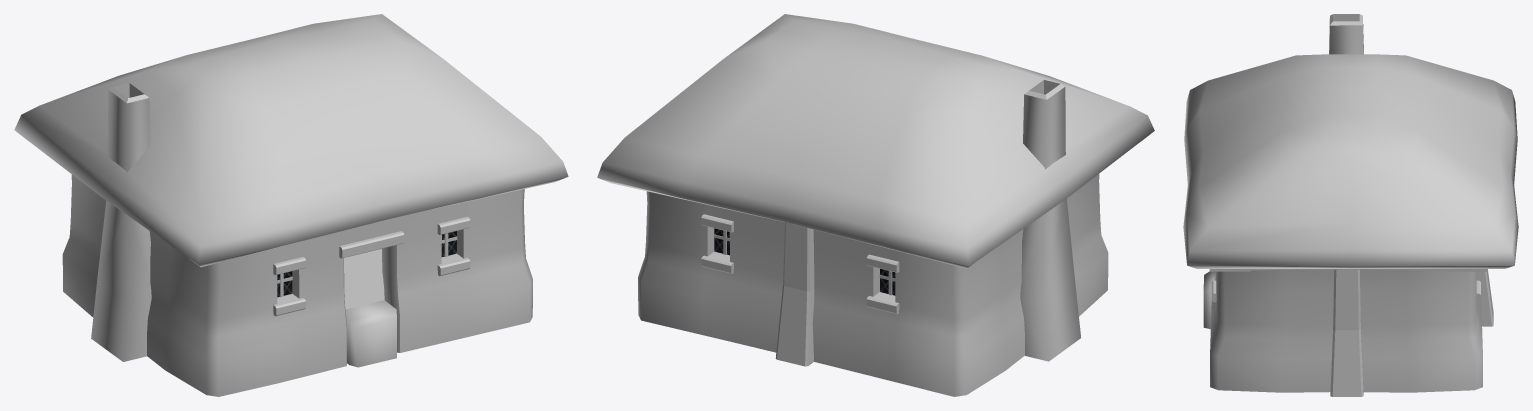
Rendered from Farm_01.FBX.
The picture shows the model from 3 angles, left to right: view 1: azimuth 30°, elevation 25°; view 2: azimuth 150°, elevation 25°; view 3: azimuth 270°, elevation 25°; orthographic projection. The views are drawn at different scales.
Visible parts, largest first — view 1: Farm_01; view 2: Farm_01; view 3: Farm_01.
Boxes of the visible parts, bbox=[...] form: Farm_01: bbox=[14, 14, 568, 396]; Farm_01: bbox=[597, 14, 1154, 396]; Farm_01: bbox=[1183, 14, 1518, 396].
Bounding box in the file's own units: 362 × 235 × 313.
